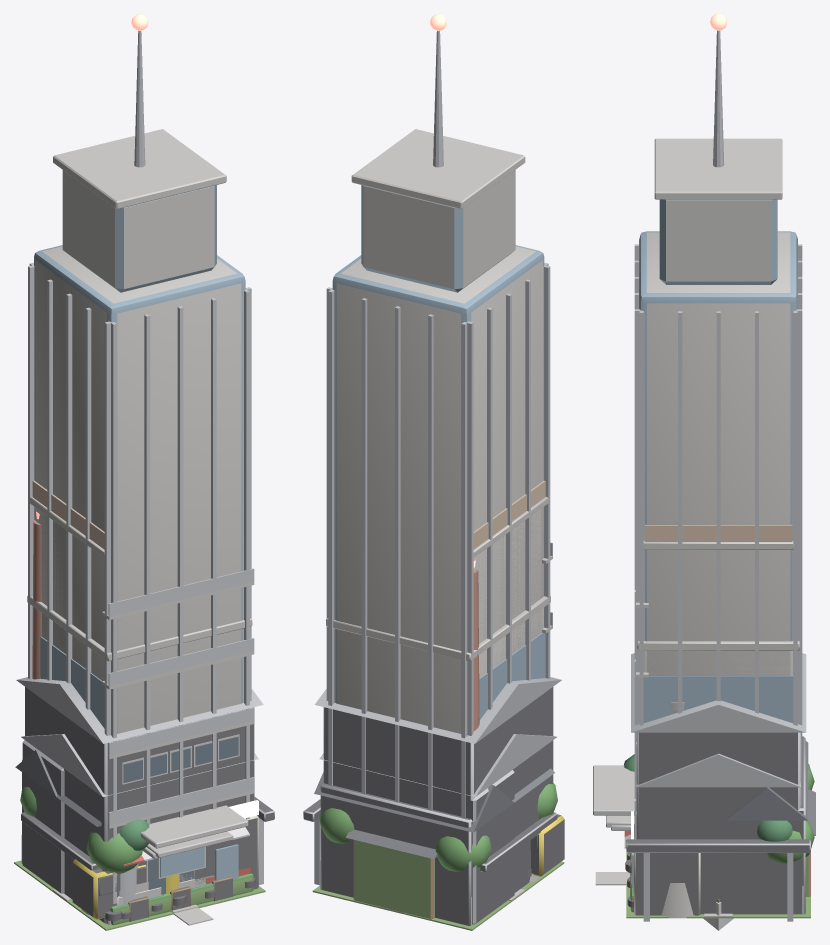
File: city_assets.glb
The picture shows the model from 3 angles, left to right: view 1: azimuth 30°, elevation 25°; view 2: azimuth 150°, elevation 25°; view 3: azimuth 270°, elevation 25°; orthographic projection.
Parts seen in each view (by area): view 1: com_tower, ind_plant, res_apartment, svc_transit, com_office, svc_power, svc_park, ind_factory, res_house, ind_warehouse, svc_school, svc_police; view 2: com_tower, ind_plant, svc_transit, res_apartment, svc_water, com_office, svc_power, svc_park, ind_factory, svc_school; view 3: com_tower, ind_plant, svc_transit, com_office, res_apartment, ind_factory, svc_park, svc_school, svc_power, res_house, svc_water.
Boxes of the visible parts, x1,y1,x2,y2 form: com_tower: (28, 14, 251, 924); ind_plant: (16, 677, 274, 923); res_apartment: (29, 480, 254, 828); svc_transit: (22, 760, 258, 921); com_office: (27, 596, 252, 857); svc_power: (22, 511, 88, 914); svc_park: (14, 787, 265, 930); ind_factory: (21, 734, 258, 870); res_house: (110, 873, 261, 925); ind_warehouse: (21, 835, 233, 921); svc_school: (15, 749, 101, 826); svc_police: (117, 874, 215, 919); com_tower: (326, 14, 550, 818); ind_plant: (303, 677, 561, 892); svc_transit: (320, 783, 564, 925); res_apartment: (473, 480, 552, 673); svc_water: (346, 829, 437, 919); com_office: (326, 596, 550, 719); svc_power: (470, 560, 542, 924); svc_park: (312, 783, 564, 930); ind_factory: (319, 734, 557, 872); svc_school: (314, 768, 554, 832); com_tower: (593, 14, 802, 838); ind_plant: (626, 653, 810, 921); svc_transit: (625, 736, 805, 915); com_office: (606, 641, 799, 827); res_apartment: (634, 524, 793, 817); ind_factory: (636, 753, 800, 787); svc_park: (624, 754, 814, 918); svc_school: (726, 741, 808, 820); svc_power: (660, 702, 694, 918); res_house: (595, 865, 808, 915); svc_water: (805, 789, 815, 896).
Size of the model in its own units: 7.95 by 37.79 by 8.7.
